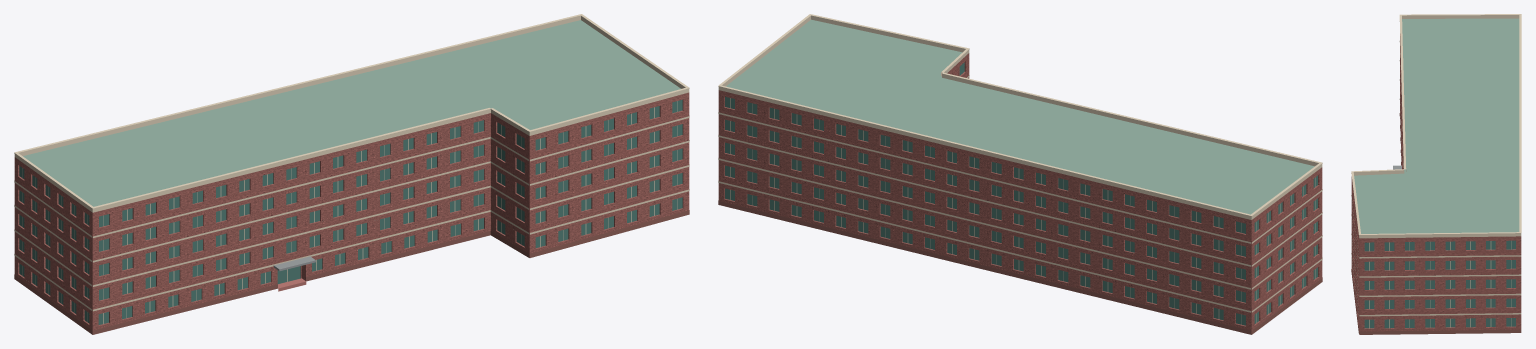
3 views of the same model, side by side, from view 1: azimuth 30°, elevation 25°; view 2: azimuth 150°, elevation 25°; view 3: azimuth 270°, elevation 25° (orthographic). The views are drawn at different scales.
Visible parts, largest first — view 1: academy-dorm__wall, academy-dorm__roof, academy-dorm__glass, academy-dorm__trim, academy-dorm__parapet, academy-dorm__base, academy-dorm__frame; view 2: academy-dorm__wall, academy-dorm__roof, academy-dorm__glass, academy-dorm__trim, academy-dorm__parapet, academy-dorm__base, academy-dorm__frame; view 3: academy-dorm__roof, academy-dorm__wall, academy-dorm__glass, academy-dorm__trim, academy-dorm__parapet, academy-dorm__base, academy-dorm__frame.
Part boxes in pixels (box(x1,y1,x2,y2)): academy-dorm__wall: box(14, 92, 689, 334); academy-dorm__roof: box(23, 20, 680, 258); academy-dorm__glass: box(19, 99, 682, 324); academy-dorm__trim: box(14, 14, 689, 311); academy-dorm__parapet: box(14, 15, 689, 212); academy-dorm__base: box(14, 210, 689, 334); academy-dorm__frame: box(22, 101, 677, 323); academy-dorm__wall: box(718, 53, 1322, 334); academy-dorm__roof: box(726, 19, 1314, 334); academy-dorm__glass: box(725, 62, 1317, 325); academy-dorm__trim: box(718, 14, 1322, 312); academy-dorm__parapet: box(718, 15, 1322, 219); academy-dorm__base: box(718, 200, 1322, 334); academy-dorm__frame: box(730, 98, 1315, 324); academy-dorm__roof: box(1354, 18, 1519, 333); academy-dorm__wall: box(1351, 34, 1521, 333); academy-dorm__glass: box(1364, 240, 1515, 328); academy-dorm__trim: box(1351, 14, 1521, 316); academy-dorm__parapet: box(1353, 15, 1521, 238); academy-dorm__base: box(1351, 113, 1521, 334); academy-dorm__frame: box(1369, 241, 1511, 328).
Bounding box in the file's own units: 81.06 × 17.5 × 26.42.
Materials: 10 (1 with a texture image).
